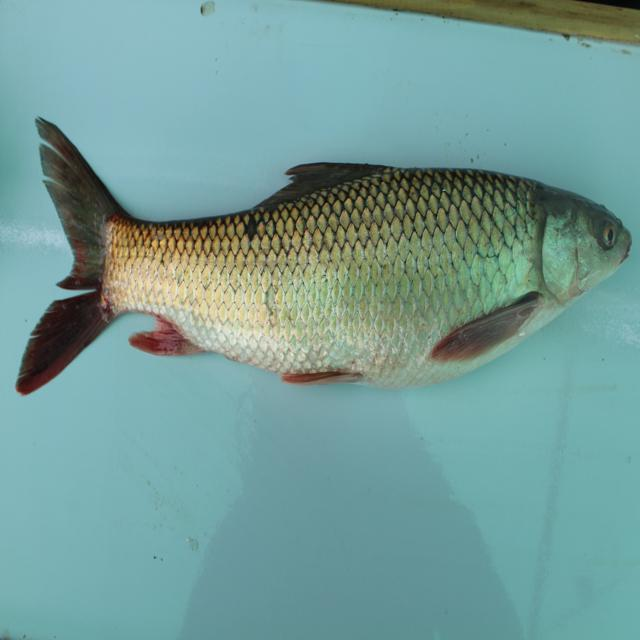Mori: (23, 108, 635, 398)
